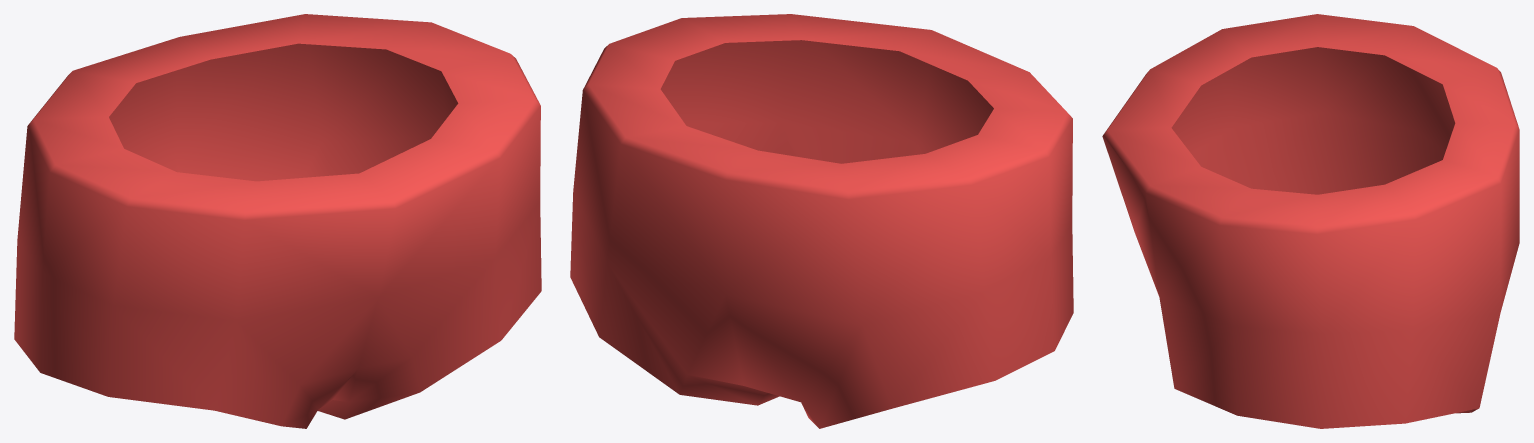
File: Pants_Red_004.glb
The picture shows the model from 3 angles, left to right: view 1: azimuth 30°, elevation 25°; view 2: azimuth 150°, elevation 25°; view 3: azimuth 270°, elevation 25°; orthographic projection. The views are drawn at different scales.
Parts seen in each view (by area): view 1: Pants_Red_004; view 2: Pants_Red_004; view 3: Pants_Red_004.
Boxes of the visible parts, x1,y1,x2,y2 form: Pants_Red_004: [14, 14, 541, 428]; Pants_Red_004: [570, 14, 1073, 428]; Pants_Red_004: [1102, 14, 1519, 428].
Bounding box in the file's own units: 0.4529 × 0.2677 × 0.3561.
1 material, 1 textured.
